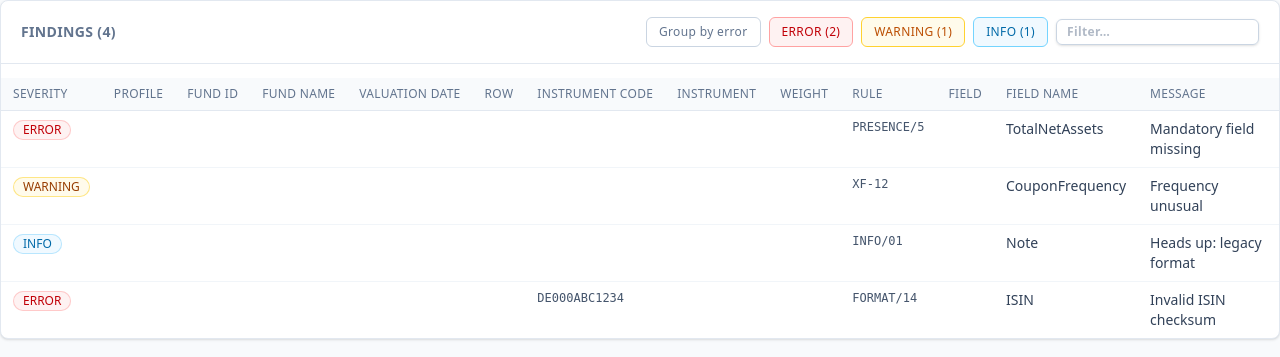
Test case: FindingsTable › re-enables a severity after a second toggle click
Click the button "ERROR (2)" at [811, 32], box [768,17,853,47]
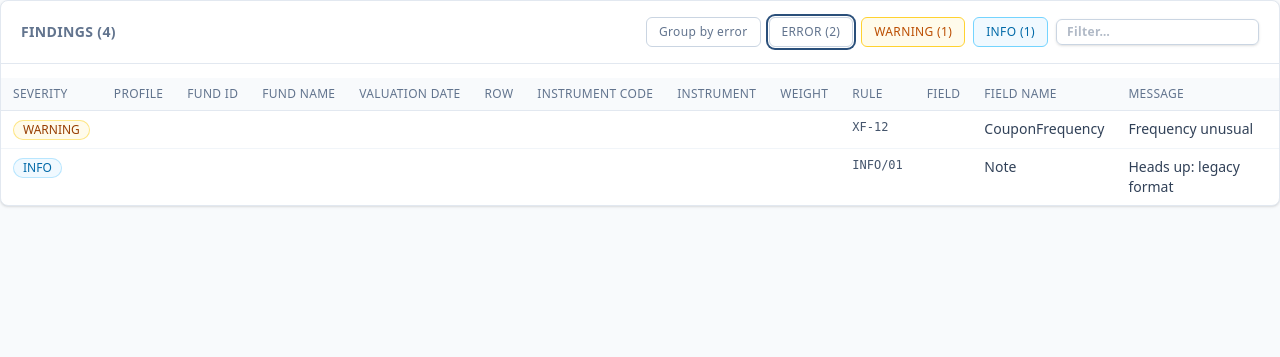
Expected: the text "PRESENCE/5" is gone
Click the button "ERROR (2)" at [811, 32], box [768,17,853,47]
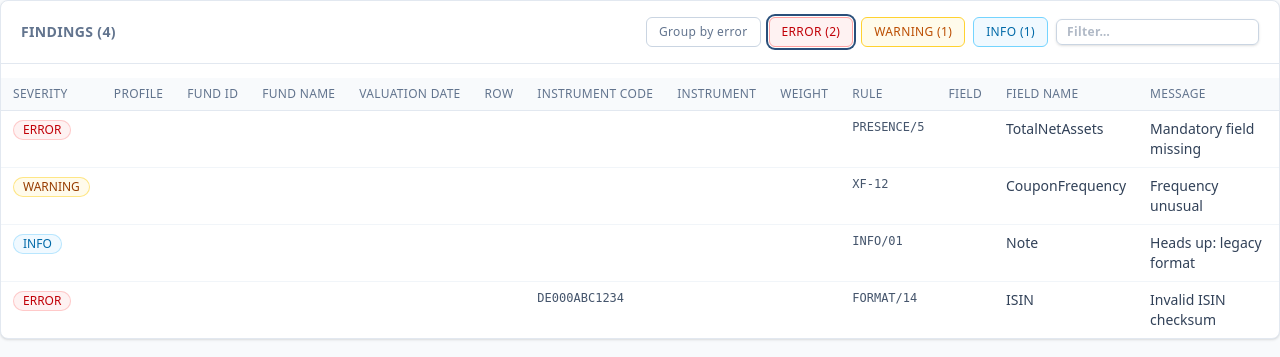
Expected: the text "PRESENCE/5" is shown, [840,110,936,168]
